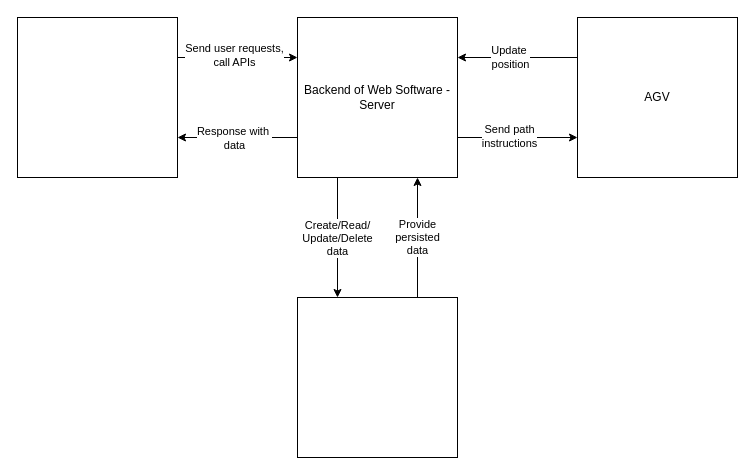
The diagram is 755 pixels wide and 475 high, and some of its shapes have lost their labels. Here are the shapes that lost their labels. From the top down, the centre of each, then its label:
[97,97]: Frontend of Web Software - Graphical User Interface
[377,377]: Database
